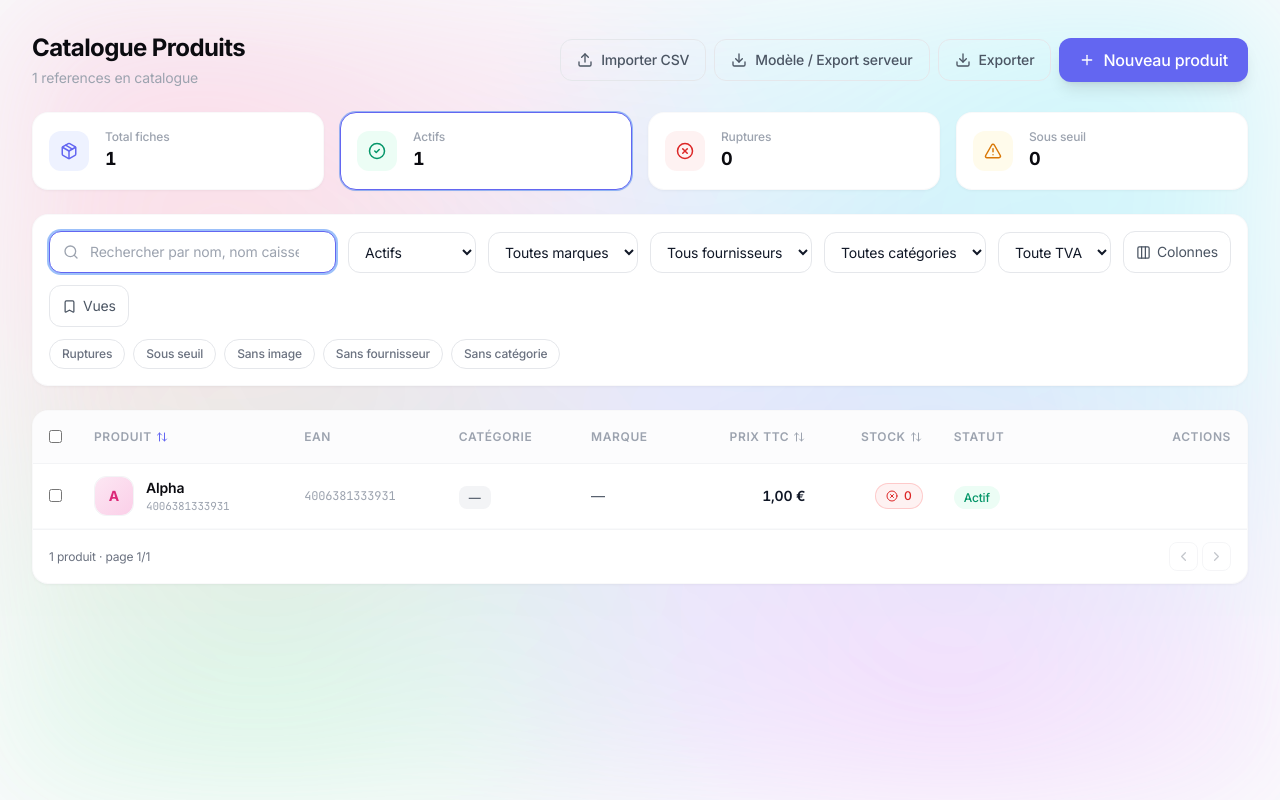
Test: Catalogue — recherche fluide (focus, pas de remount, debounce) › résultat vide puis nouvelle frappe : la page ne se démonte pas (ancien bug exact)
Type "zz" into the field with placeholder "Rechercher par nom, nom caisse, EAN ou SKU..." at (192, 252), box [49,231,336,273]
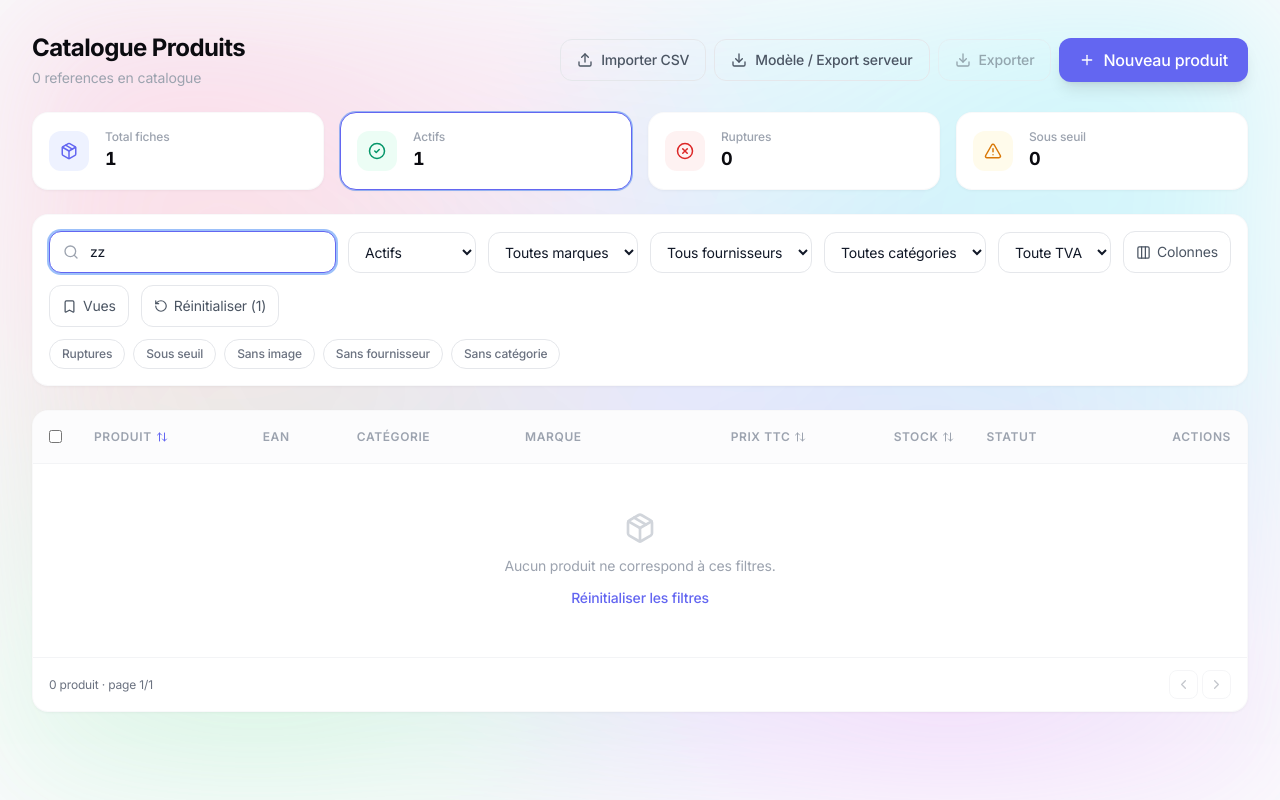
Expected: the text "Aucun produit ne correspond à ces filtres." is shown, [504,557,776,574]
Replace the text in the field with placeholder "Rechercher par nom, nom caisse, EAN ou SKU..." with "zzz" at (192, 252), box [49,231,336,273]
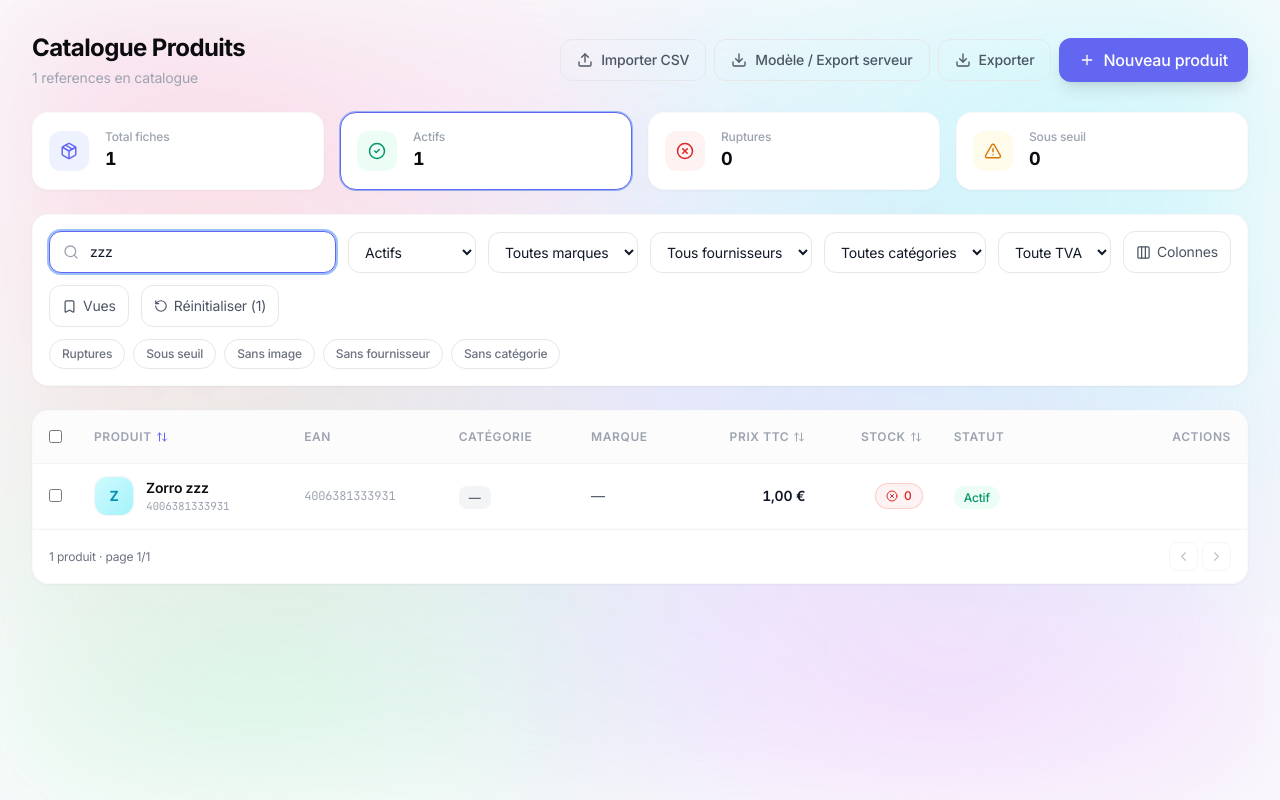
Expected: the text "Zorro zzz" is shown, [146,479,209,496]
